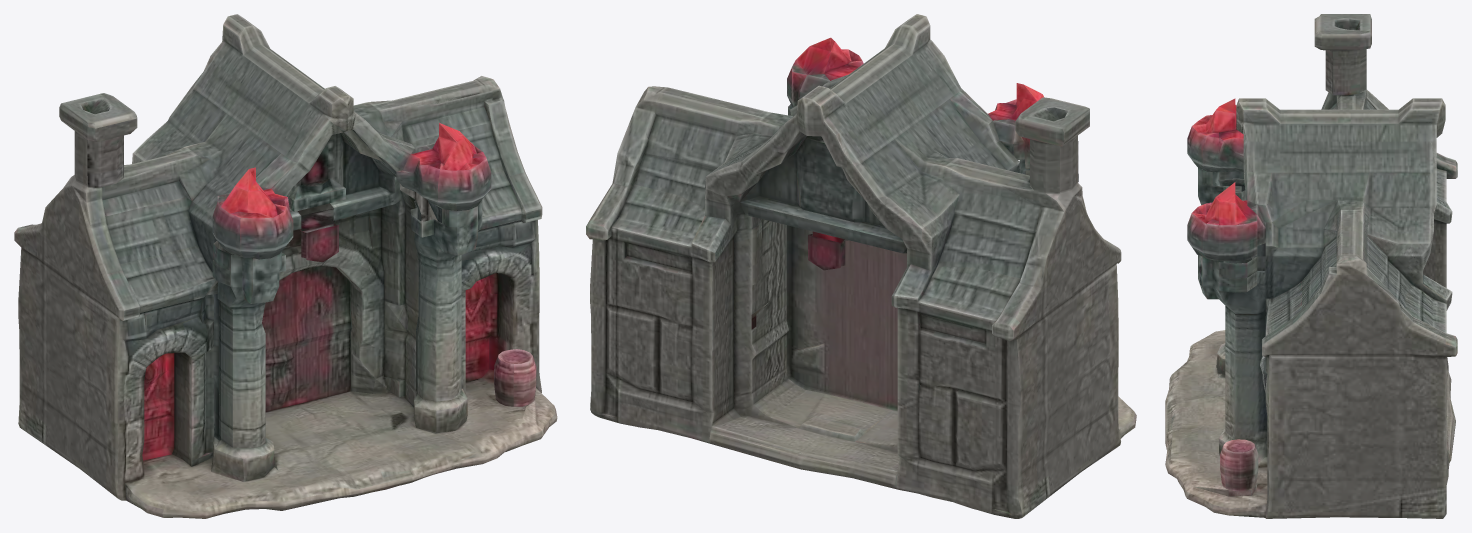
The model's file is gatehouse_crimson.glb.
3 views of the same model, side by side, from view 1: azimuth 30°, elevation 25°; view 2: azimuth 150°, elevation 25°; view 3: azimuth 270°, elevation 25° (orthographic). The views are drawn at different scales.
Bounding box in the file's own units: 1.91 × 1.56 × 1.26.
Materials: 1 (1 with a texture image).
